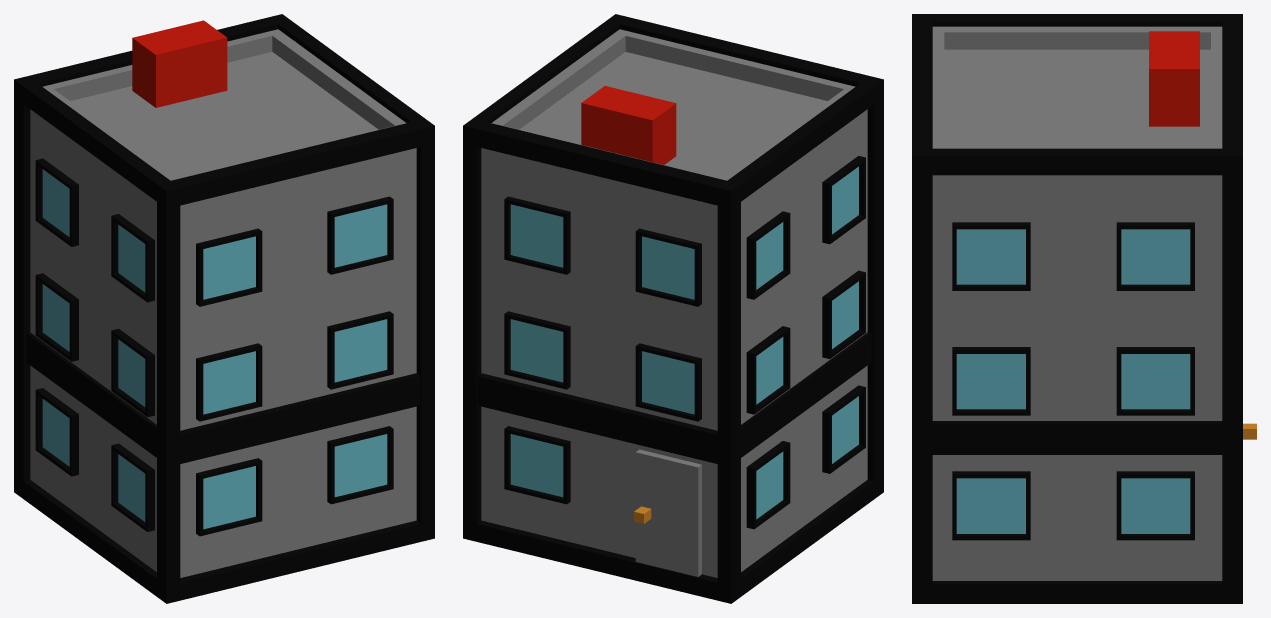
The model's file is House22.fbx.
3 views of the same model, side by side, from view 1: azimuth 30°, elevation 25°; view 2: azimuth 150°, elevation 25°; view 3: azimuth 270°, elevation 25° (orthographic). The views are drawn at different scales.
Parts seen in each view (by area): view 1: House.022; view 2: House.022; view 3: House.022.
Boxes of the visible parts, x1,y1,x2,y2 form: House.022: [14, 14, 434, 603]; House.022: [463, 14, 883, 603]; House.022: [912, 14, 1256, 603].
Bounding box in the file's own units: 787 × 1244 × 805.
